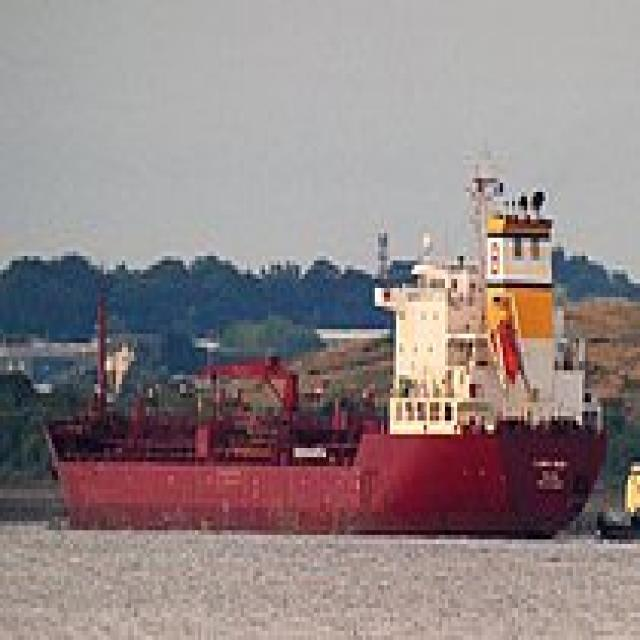Tanker: (31, 137, 610, 540)
